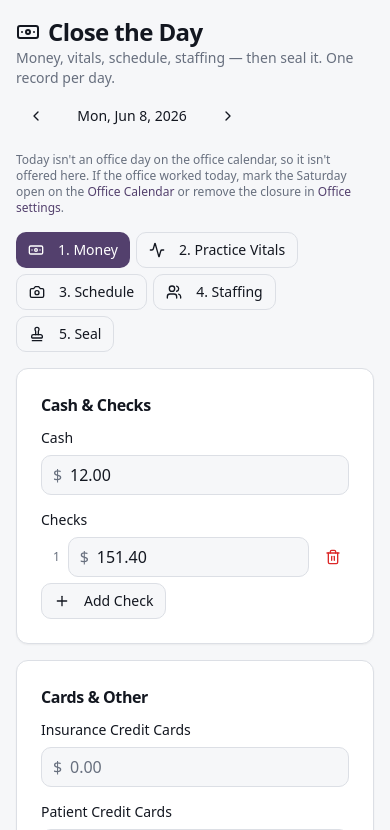
Test: Office days › steps over the weekend in both directions
The width and height of the screenshot is (390, 830).
Click the button named "Previous office day" at (36, 116), box [16, 96, 56, 136]
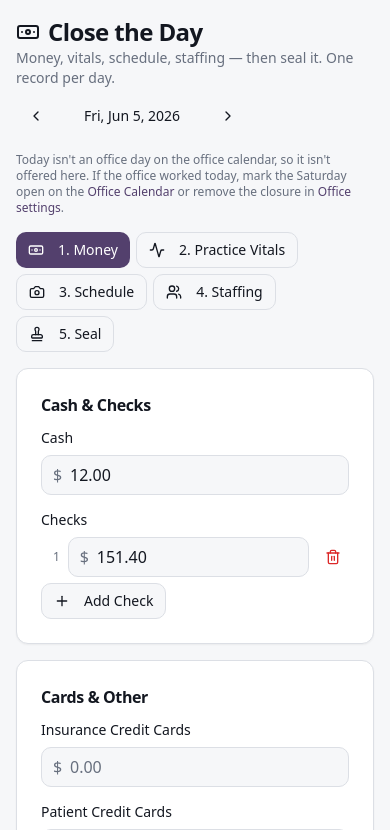
Check: the text "Fri, Jun 5, 2026" is shown, box [84, 106, 180, 125]
Click the button named "Next office day" at (228, 116), box [208, 96, 248, 136]
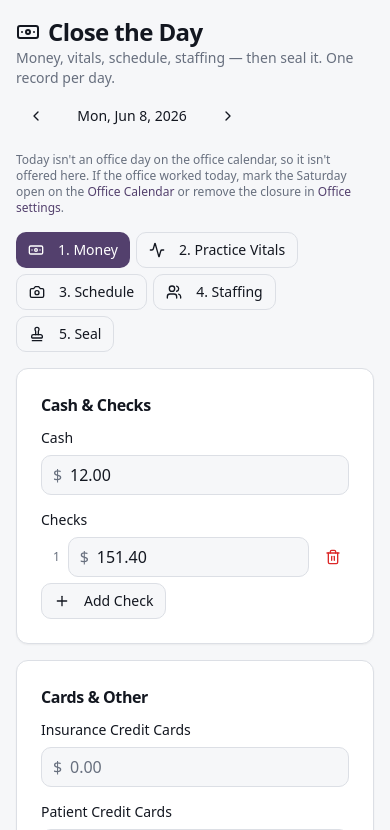
Check: the text "Mon, Jun 8, 2026" is shown, box [77, 106, 187, 125]
